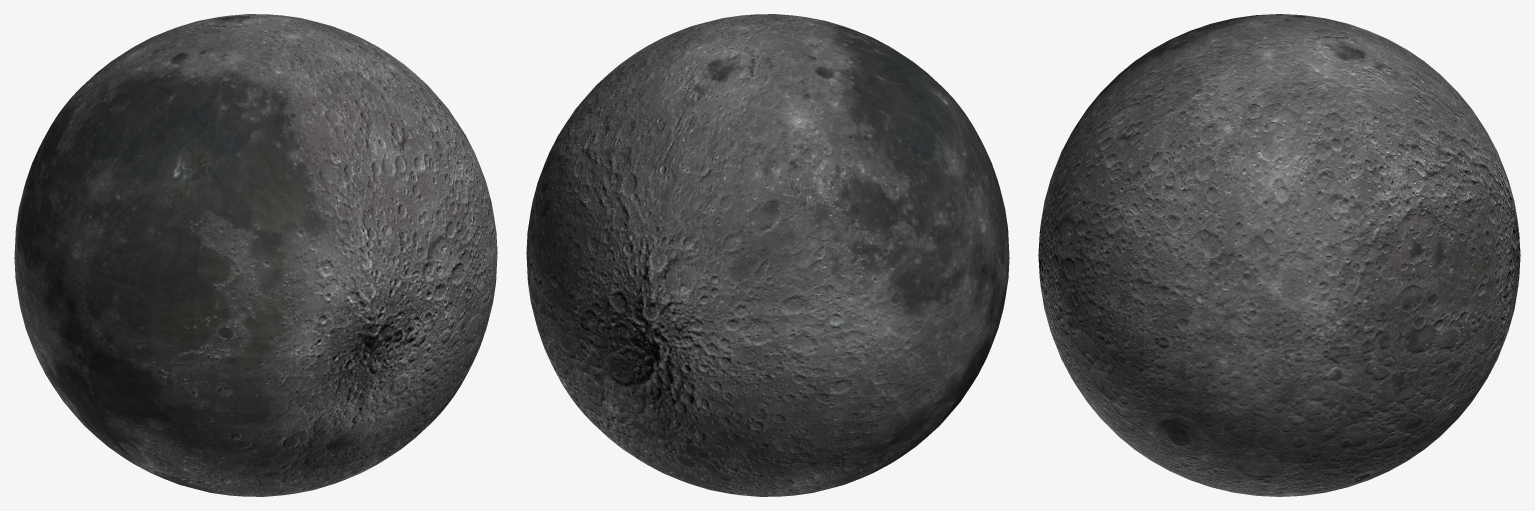
The model's file is Moon_1_3474.obj.
The picture shows the model from 3 angles, left to right: view 1: azimuth 30°, elevation 25°; view 2: azimuth 150°, elevation 25°; view 3: azimuth 270°, elevation 25°; orthographic projection.
Visible parts, largest first — view 1: Object.1; view 2: Object.1; view 3: Object.1.
Boxes of the visible parts, <box> form: Object.1: <box>14,14,497,496</box>; Object.1: <box>526,14,1009,496</box>; Object.1: <box>1038,14,1520,496</box>.
Size of the model in its own units: 1000000 by 1000000 by 998752.
Materials: 1 (1 with a texture image).
